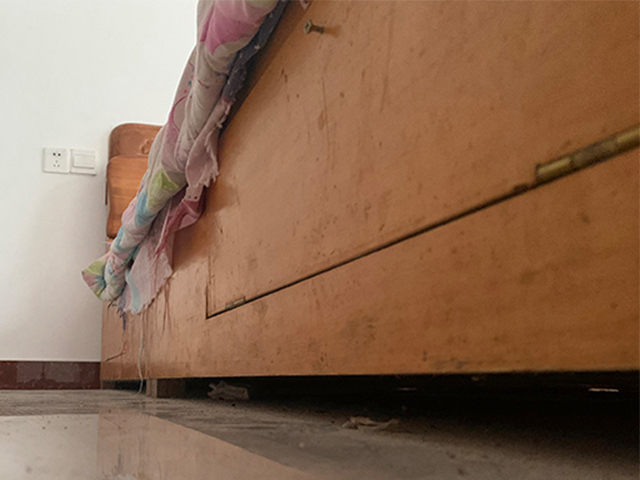bed: (82, 1, 640, 398)
